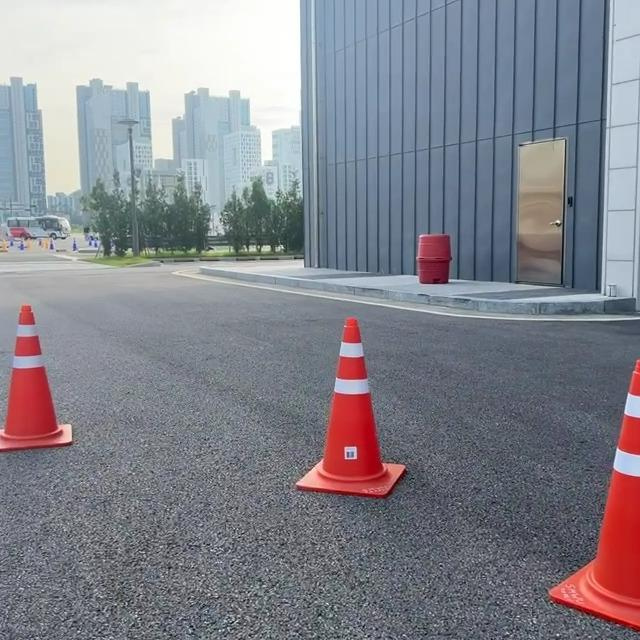fallen_object: (268, 304, 512, 561), (517, 388, 640, 632), (11, 284, 122, 472)
